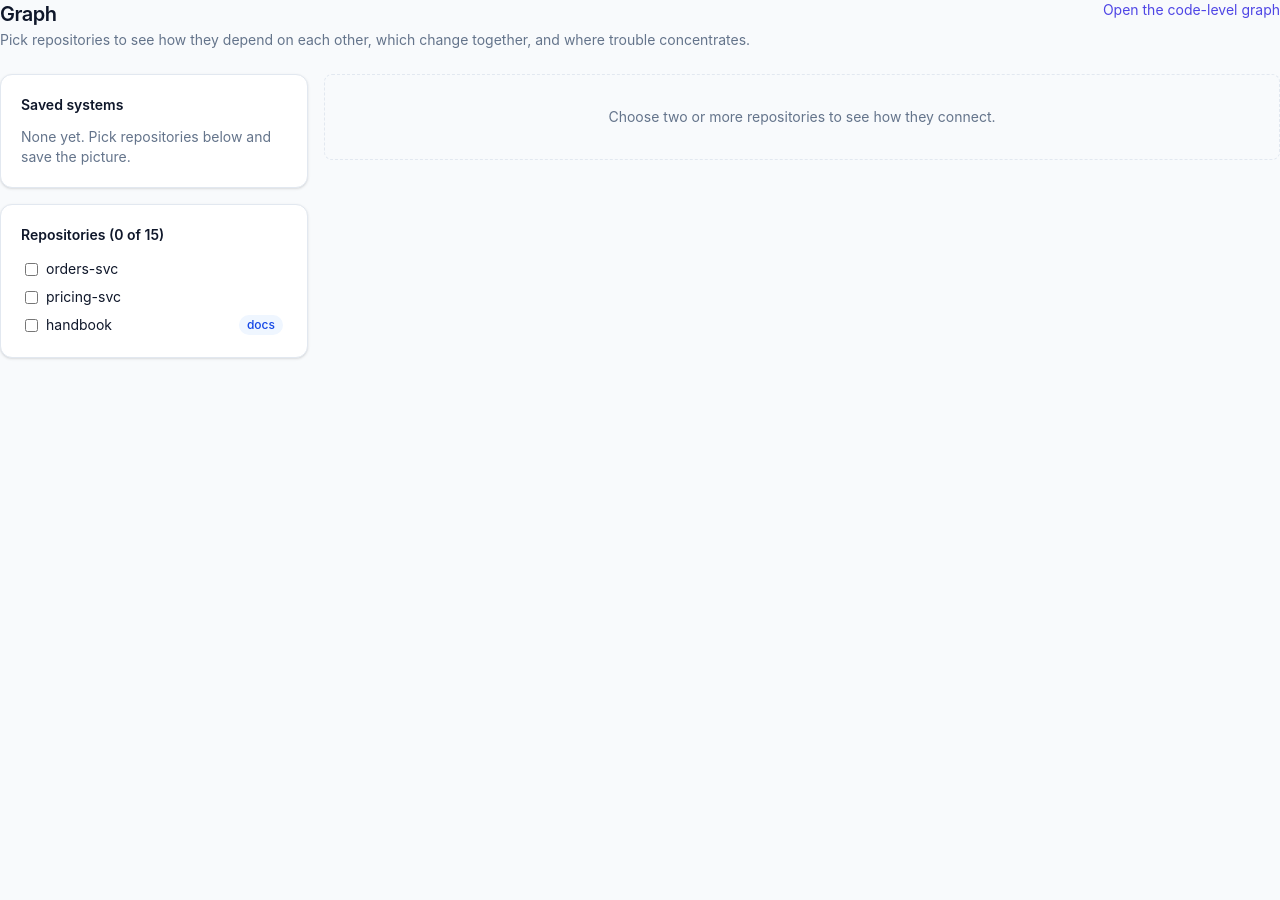
it: Graph: systems › lists new and removed dependencies with the proof, and says tracking has a start
Click the checkbox labelled "orders-svc": (32, 269) [25,262,38,276]
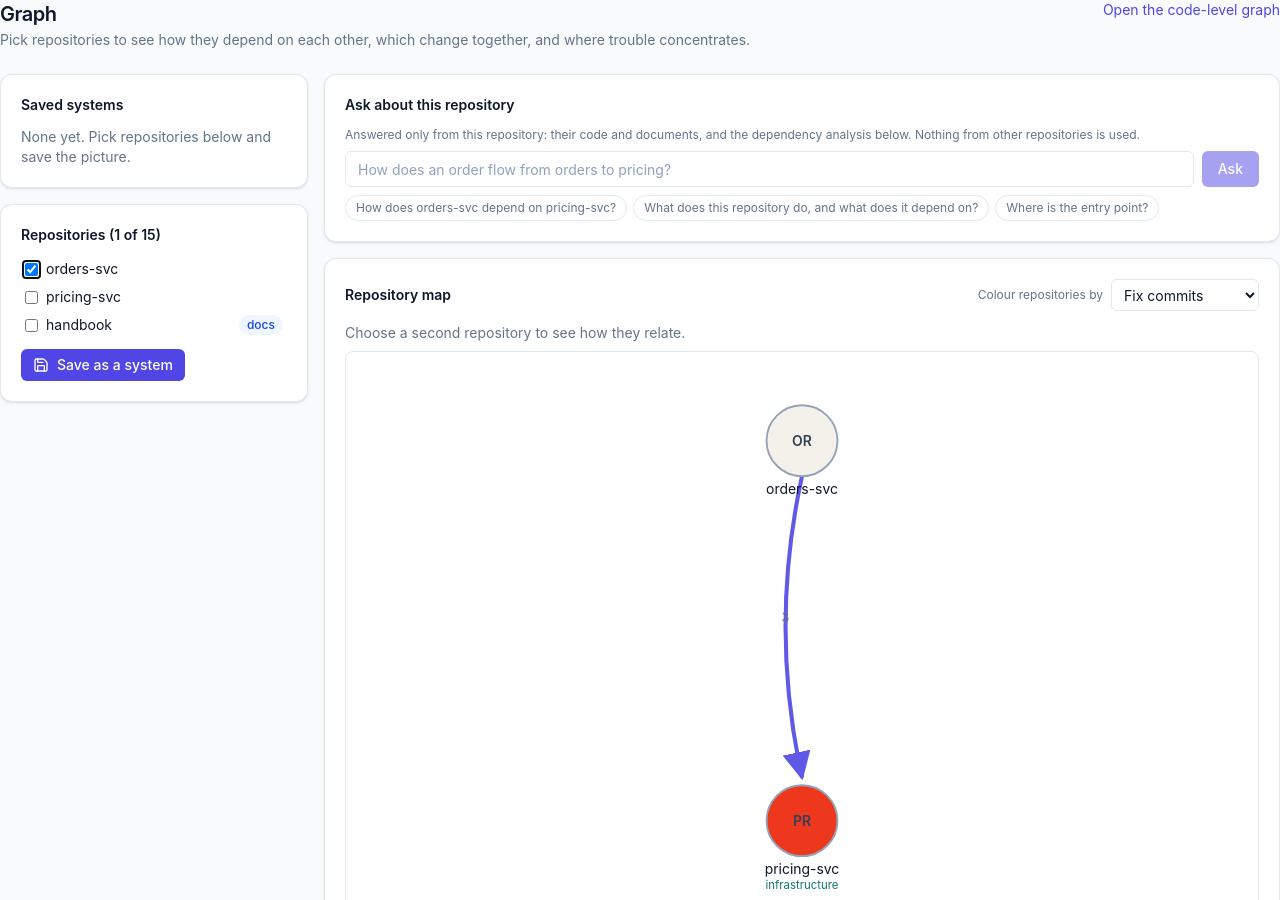
Click the checkbox labelled "pricing-svc": (32, 297) [25,290,38,304]
(page scrolled)
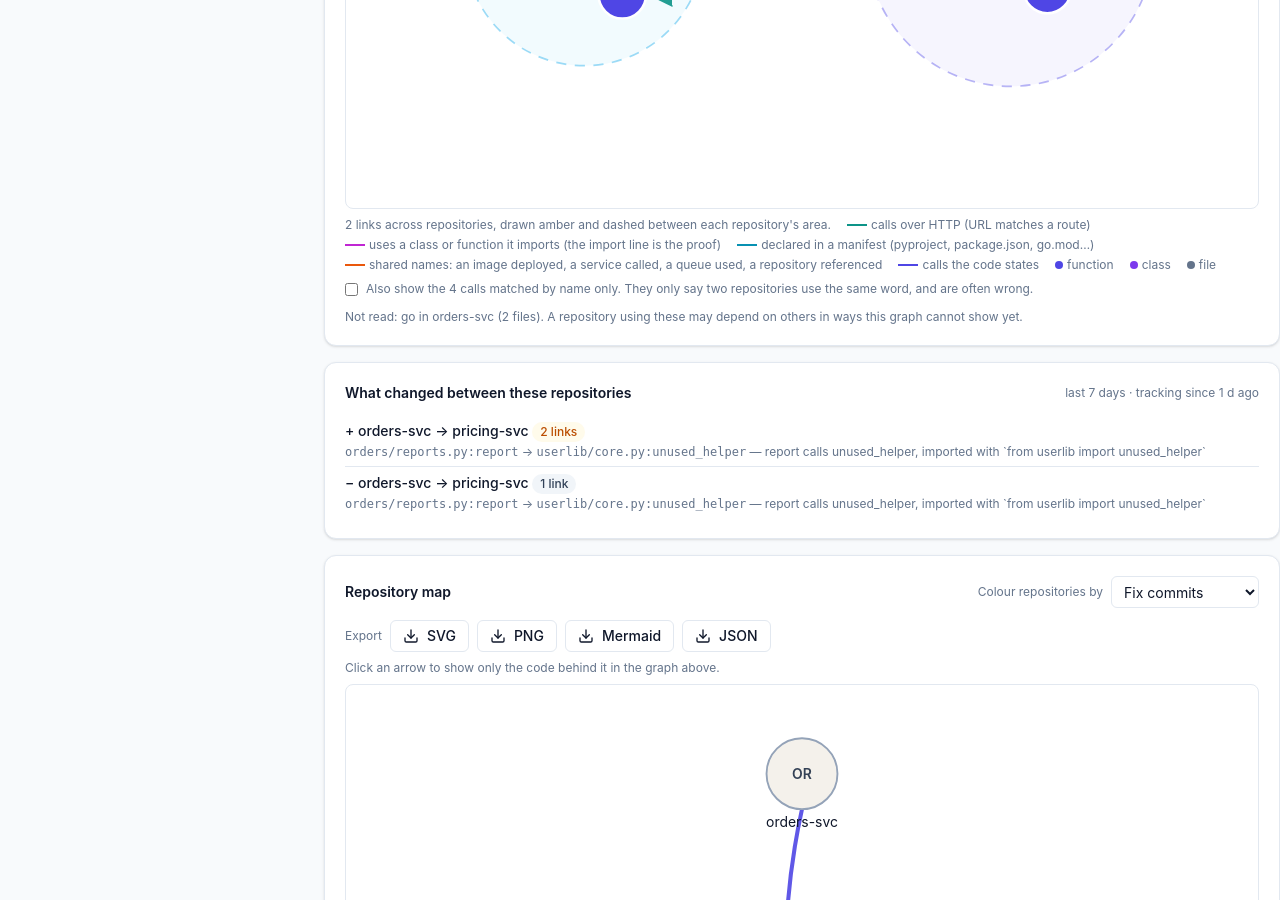
Check: the element labelled "What changed" shows "+ orders-svc → pricing-svc", box [324,362,1279,539]
Check: the element labelled "What changed" shows "2 links", box [324,362,1279,539]
Check: the element labelled "What changed" shows "− orders-svc → pricing-svc", box [324,362,1279,539]
